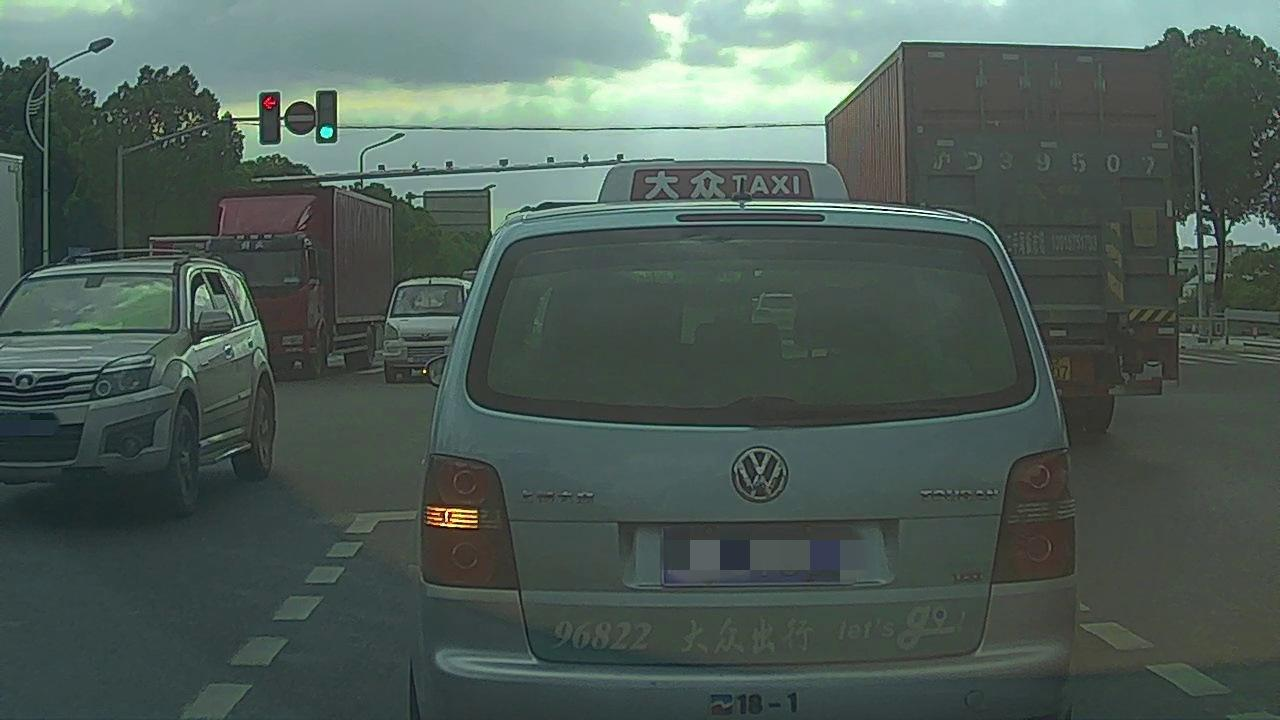traffic_light: (313, 90, 336, 142), (260, 90, 280, 143)
